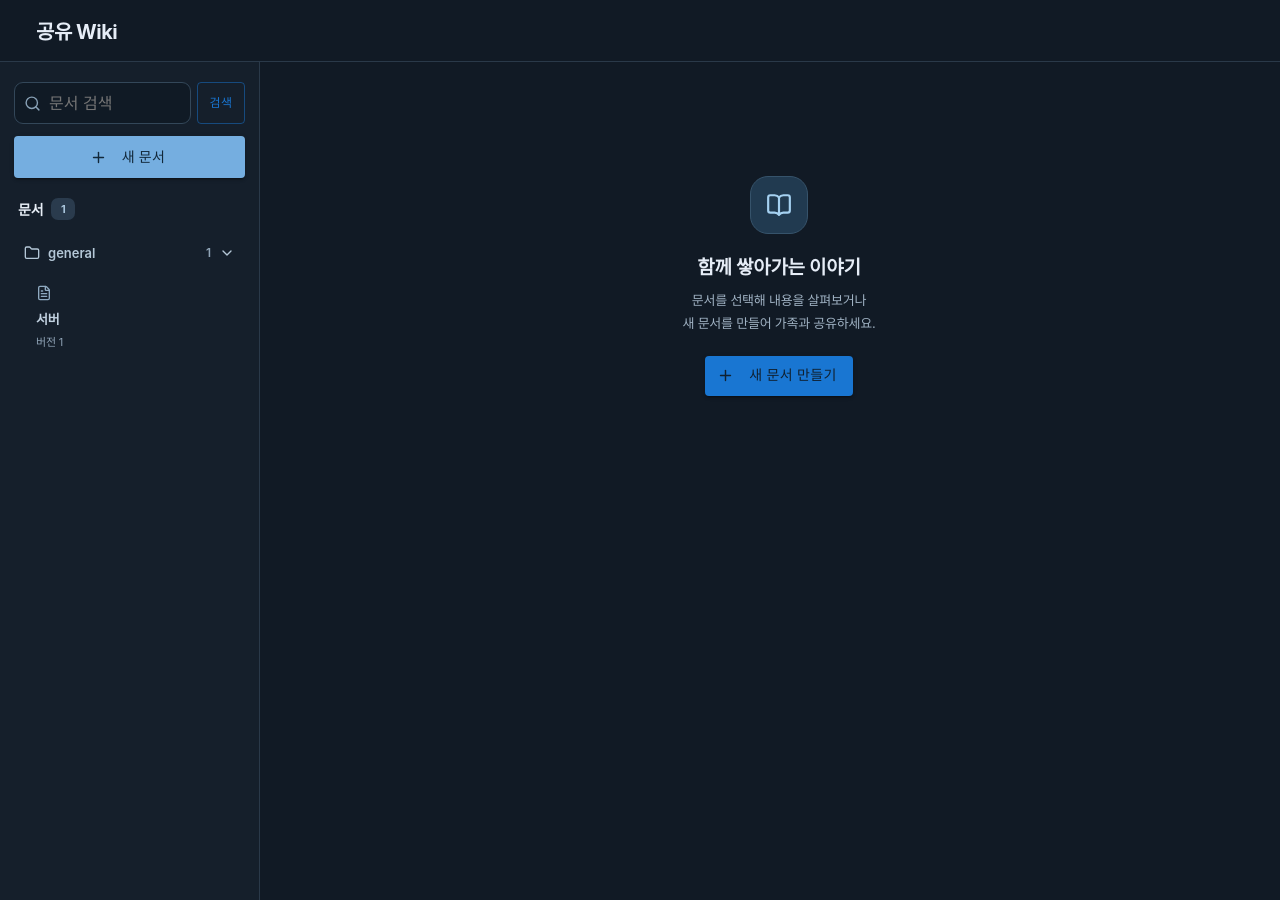
Scenario: loads and explicitly saves aliases using the current revision
Click the button "서버 버전 1". click: (49, 317)
box: [36,285,63,348]
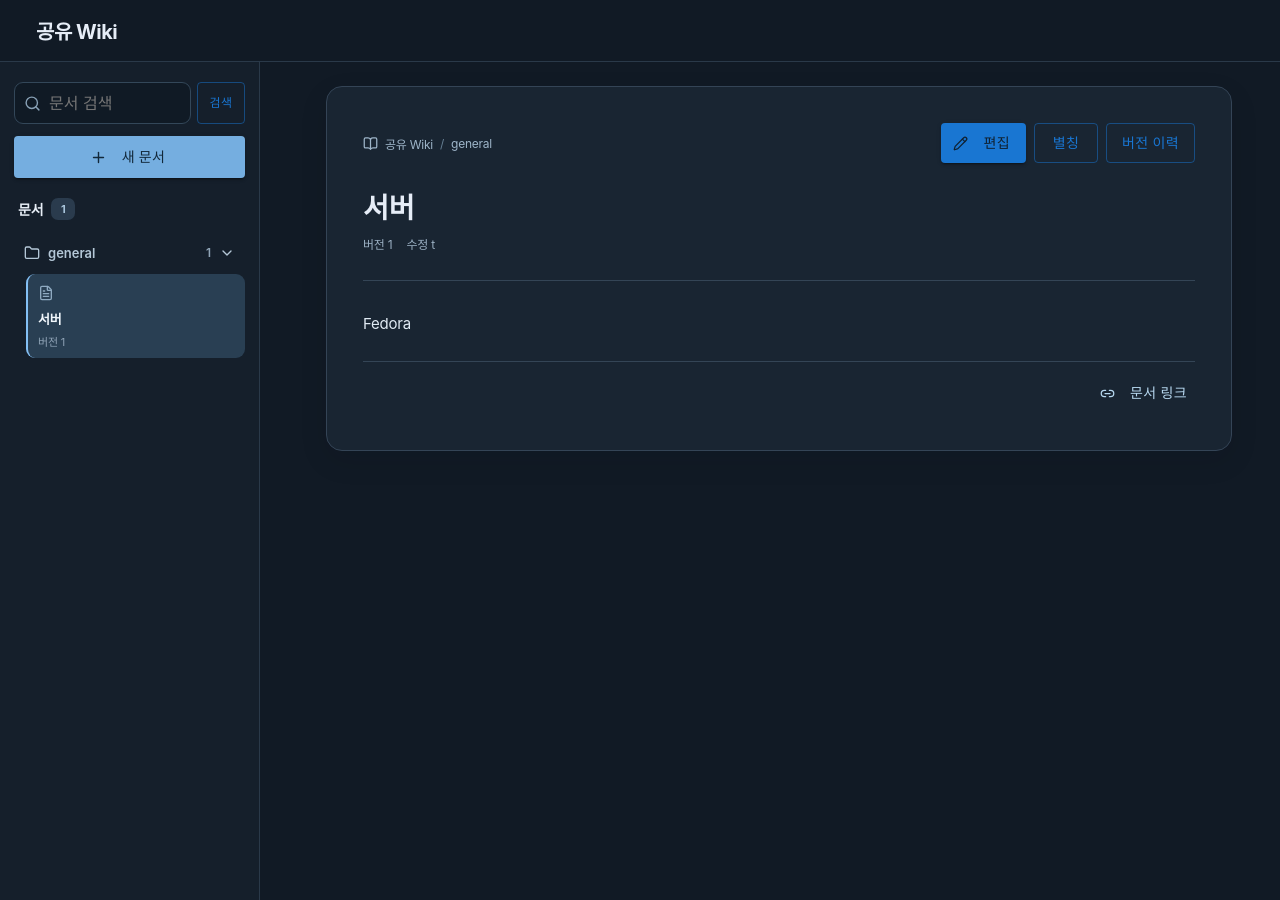
Click the button "별칭". click: (1066, 143)
box: [1034,123,1098,163]
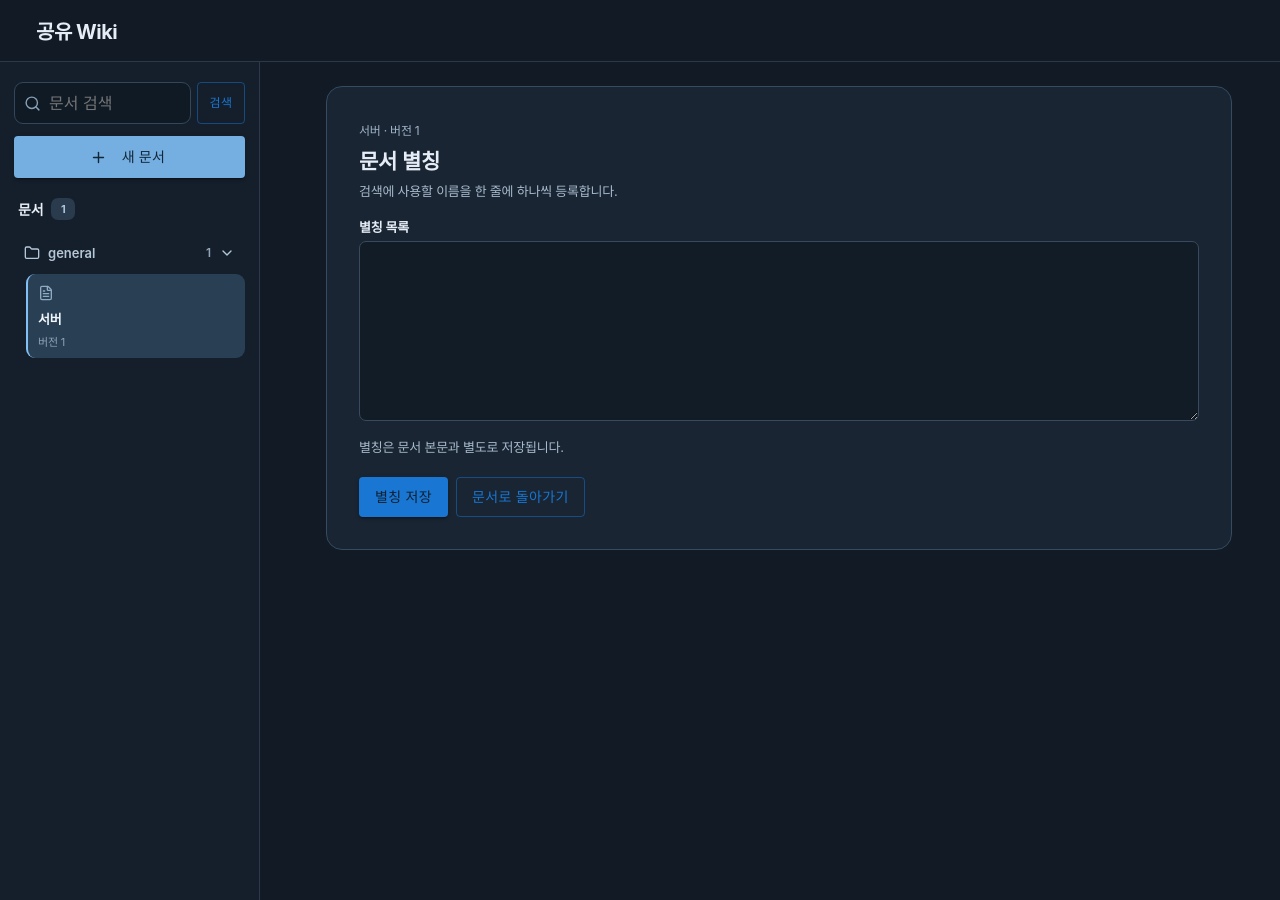
Type "bc250" into the text box labelled "별칭 목록". click: (779, 331)
box: [359,241,1199,421]
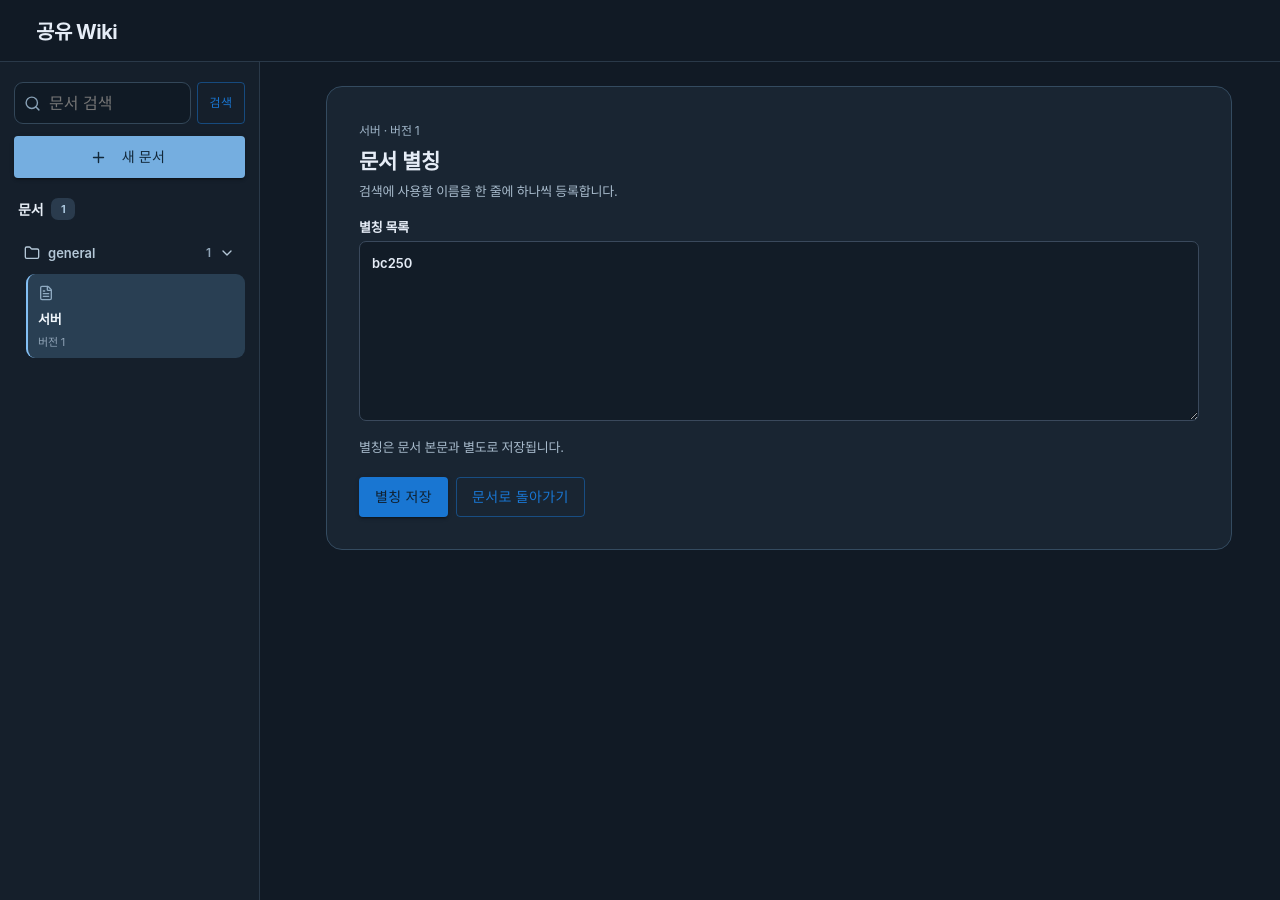
Click the button "별칭 저장". click: (404, 497)
box: [359,477,448,517]
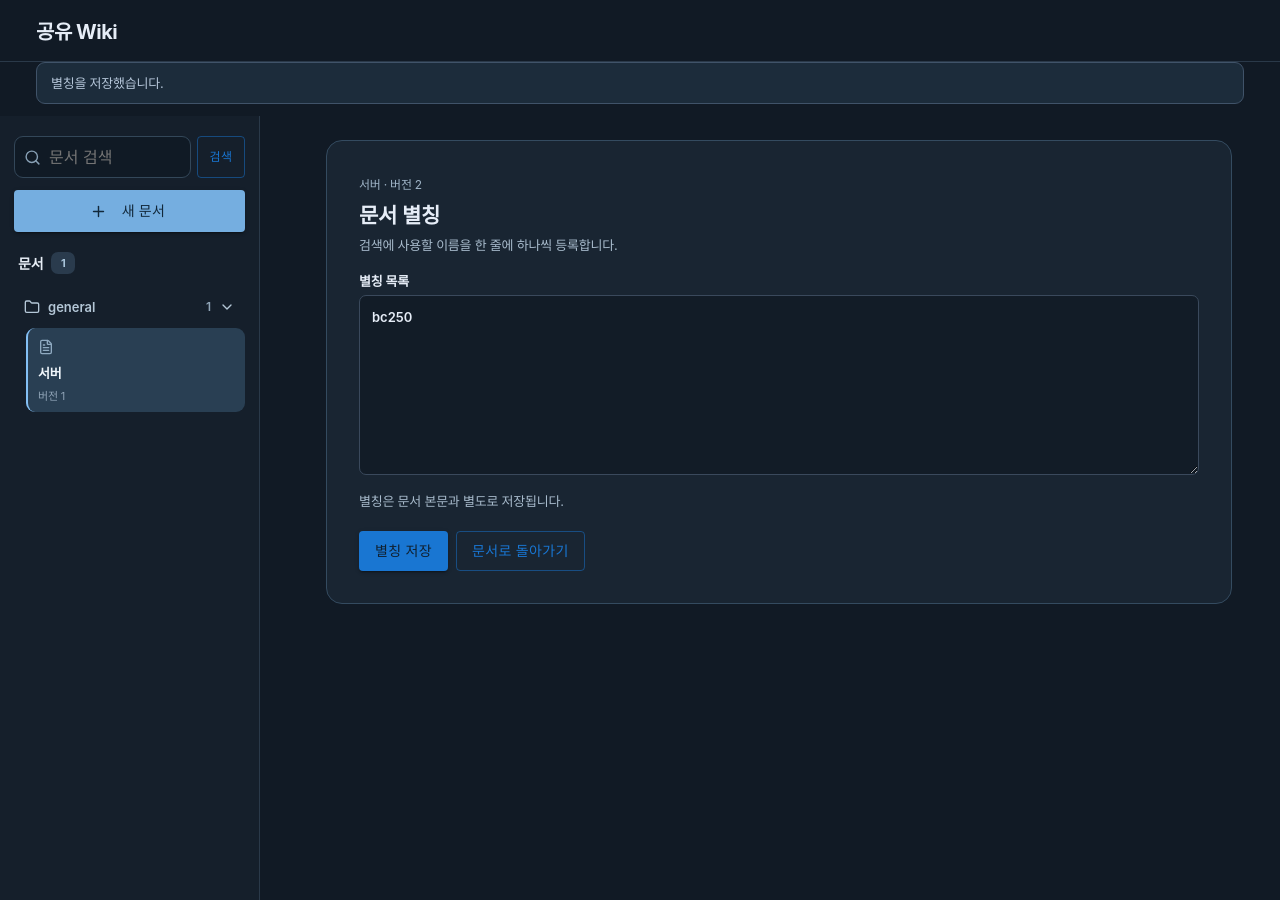
Result: the text "별칭을 저장했습니다." is shown at [36,62,1244,104]
Result: the text "서버 · 버전 2" is shown at [359,177,422,192]
